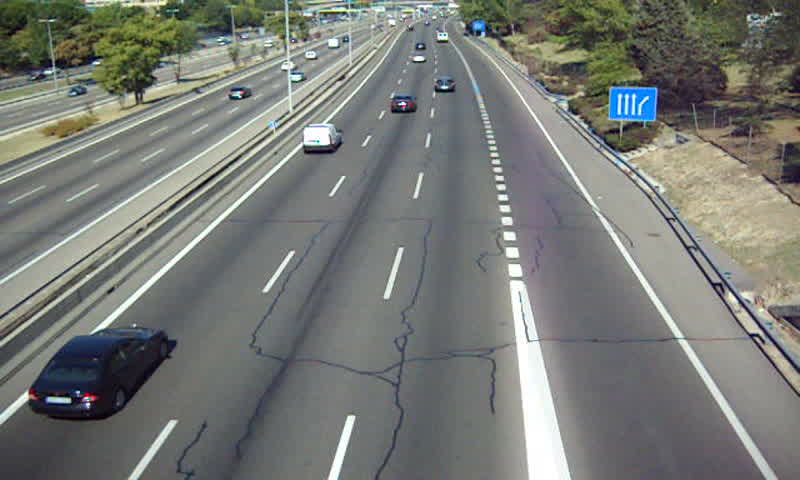car: (26, 325, 170, 419), (390, 93, 418, 114), (432, 76, 456, 94)
van: (302, 124, 343, 152)
